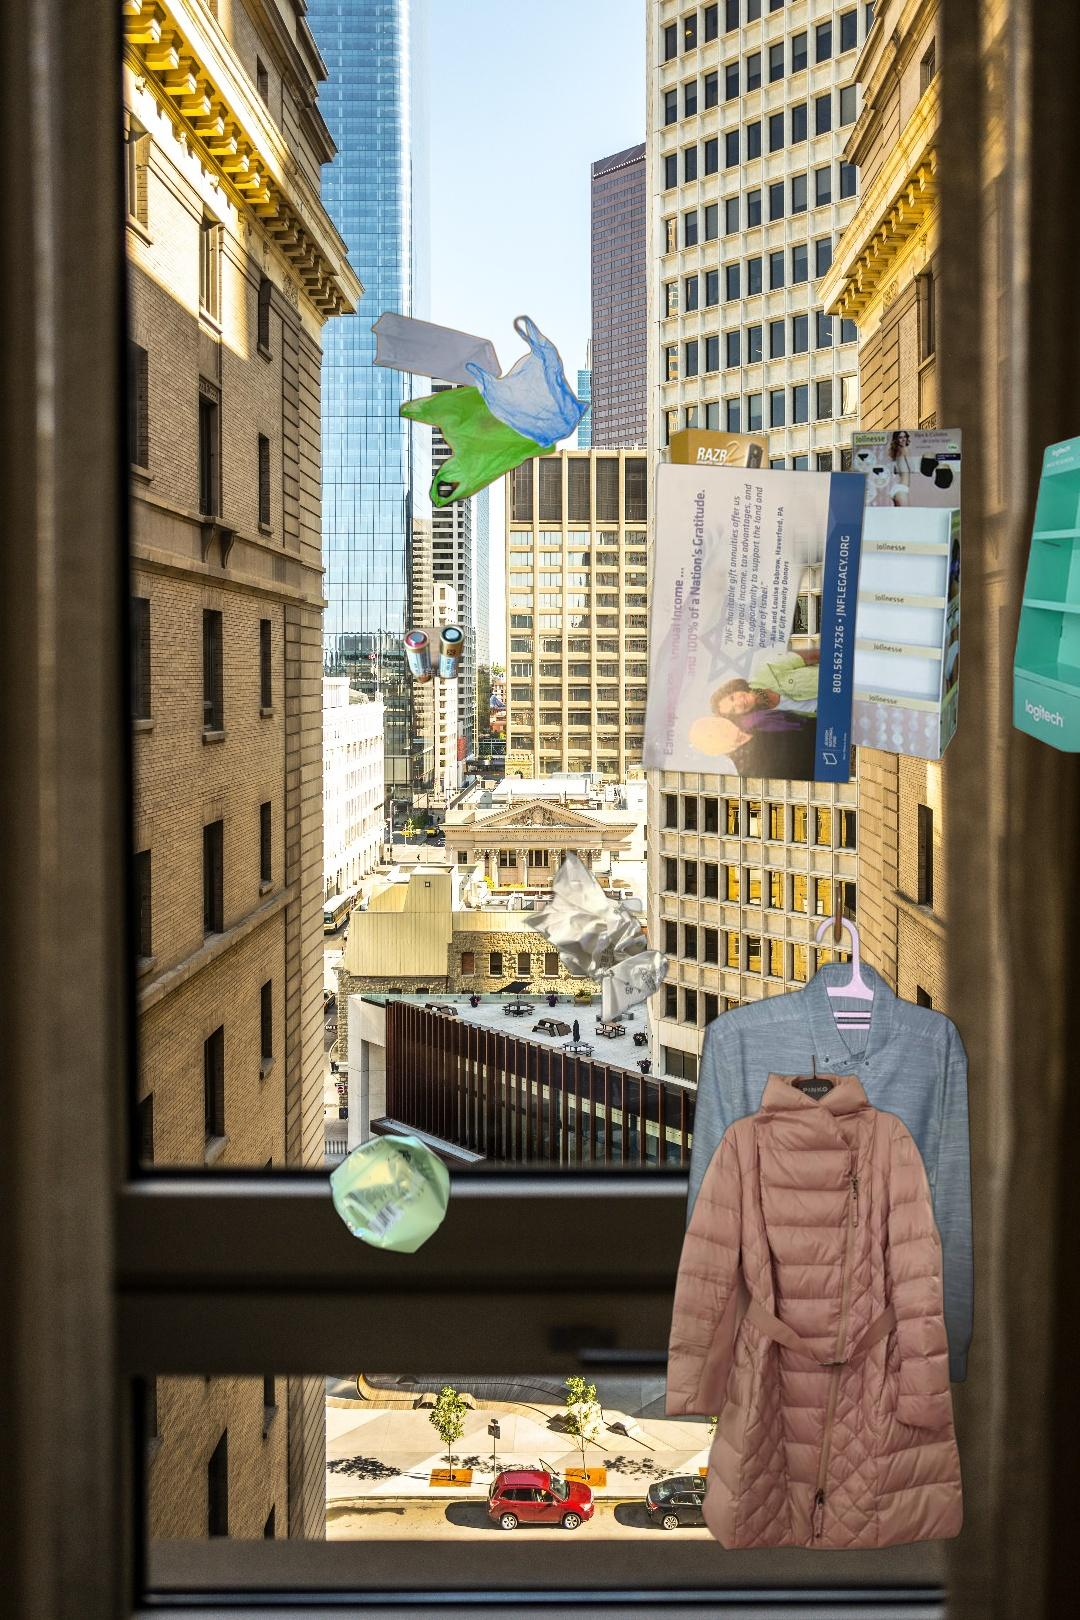battery: (400, 622, 468, 686)
clothes: (661, 1055, 965, 1559), (680, 887, 978, 1395)
metal-cans: (324, 1127, 456, 1260)
paper: (635, 459, 871, 787), (518, 846, 674, 1027)
plastic-bag: (369, 309, 592, 511)
trashbox-cardboard: (658, 419, 1080, 765)
